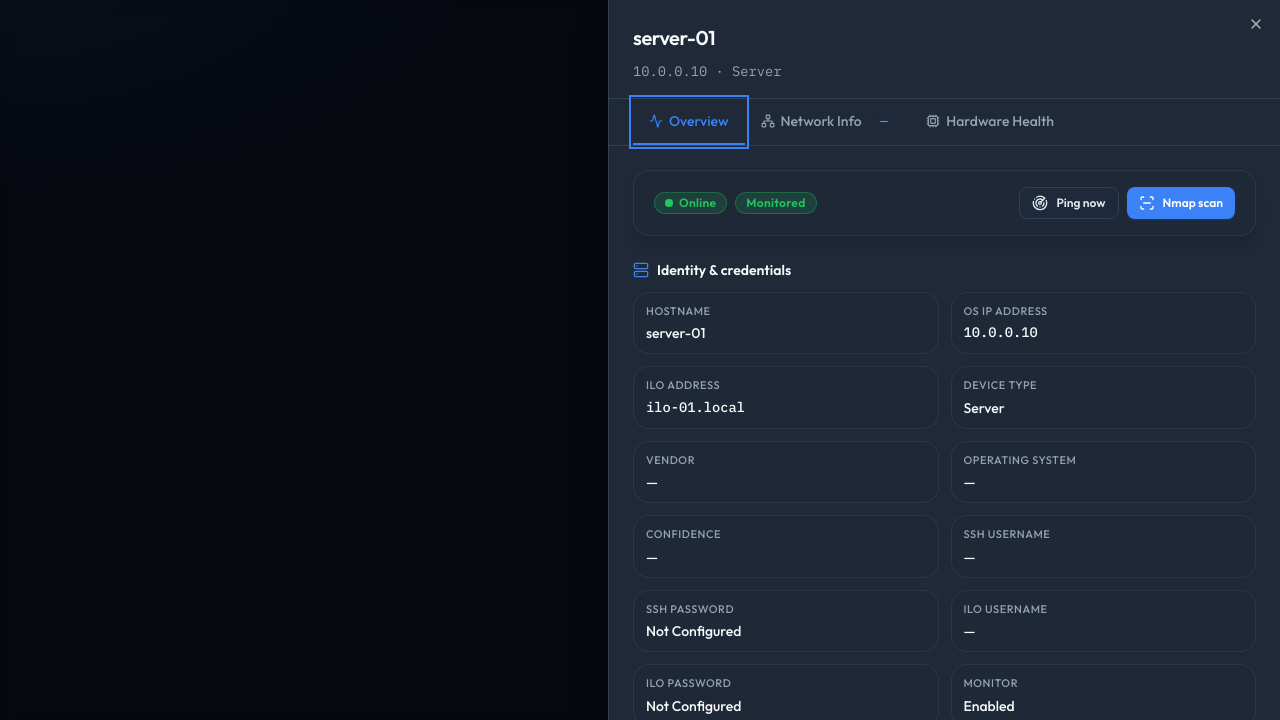
DeviceDrawer - HPE iLO Hardware & Freshness UI › 9. Loading state: renders loading indicator
Click the button "Hardware Health".
click(990, 122)  # box [910,99,1070,145]
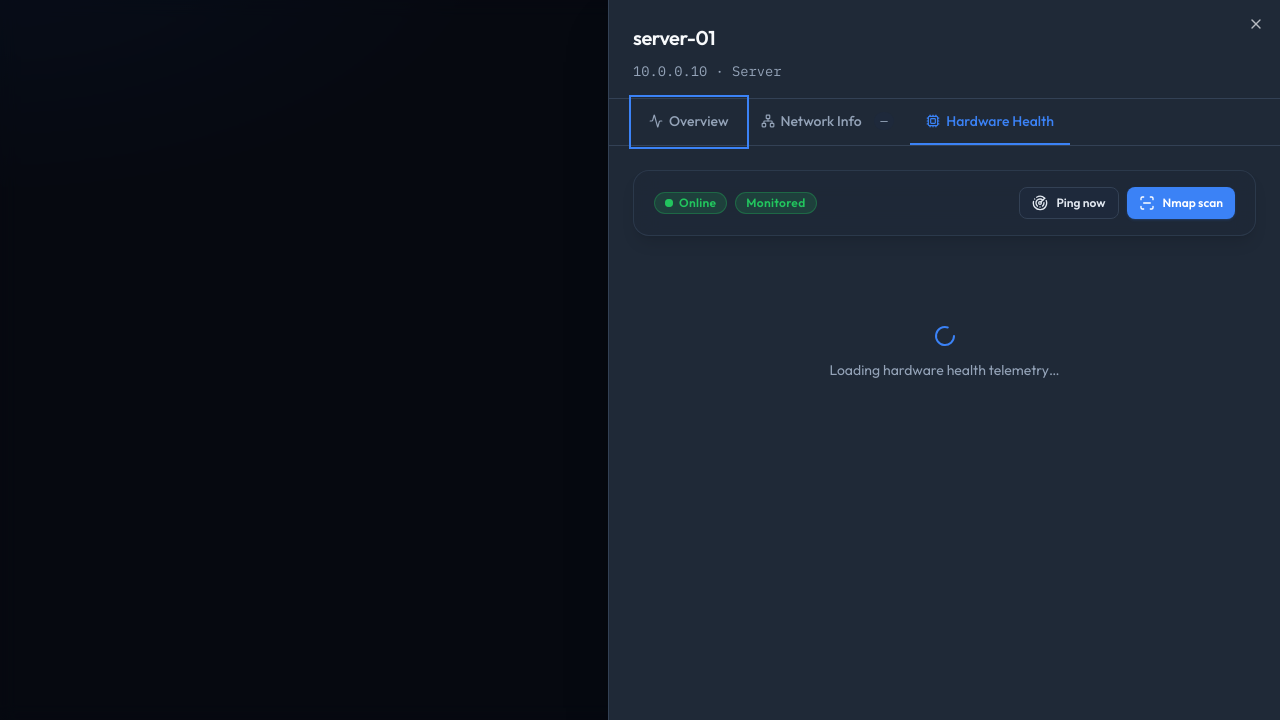
Now the text "Loading hardware health telemetry…" is shown, box [830,360,1060,380]
